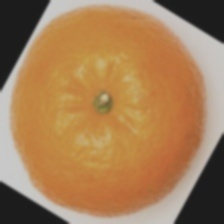orange: (31, 40, 224, 224)
